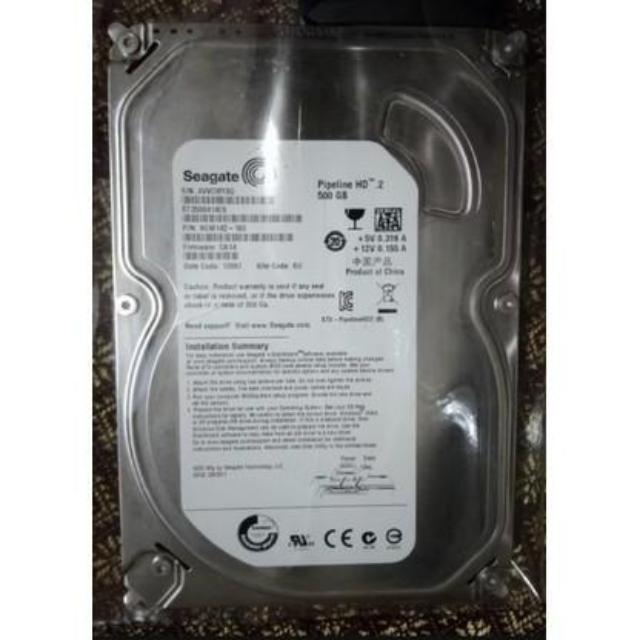DISK: (107, 19, 522, 618)
